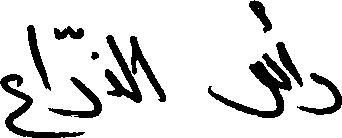X: (209, 0, 288, 122), (0, 20, 31, 137), (74, 23, 99, 137), (33, 21, 50, 137), (140, 44, 165, 106), (312, 68, 341, 119), (121, 31, 138, 107), (107, 30, 119, 101), (290, 53, 301, 114)
